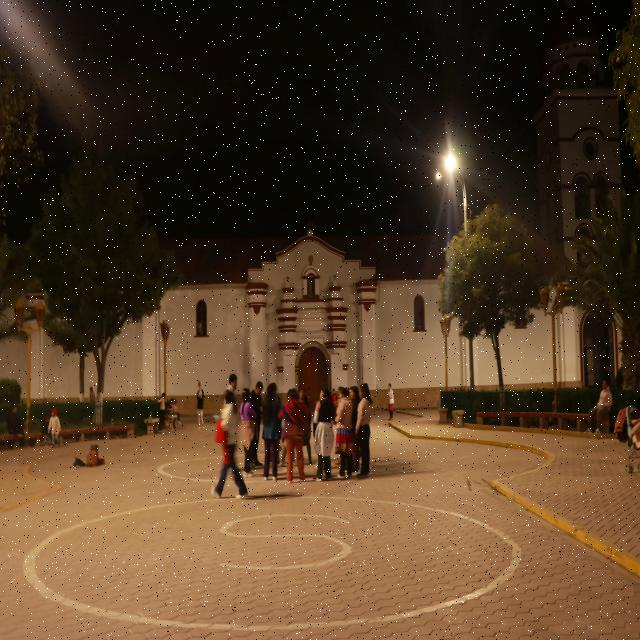CAMPANARIO: (557, 88, 629, 268)
CUPULA: (555, 17, 617, 100)
PORTADA CENTRAL: (268, 275, 358, 422)
TORRES: (547, 0, 628, 408)
colonial-architecture-: (0, 0, 640, 441)
